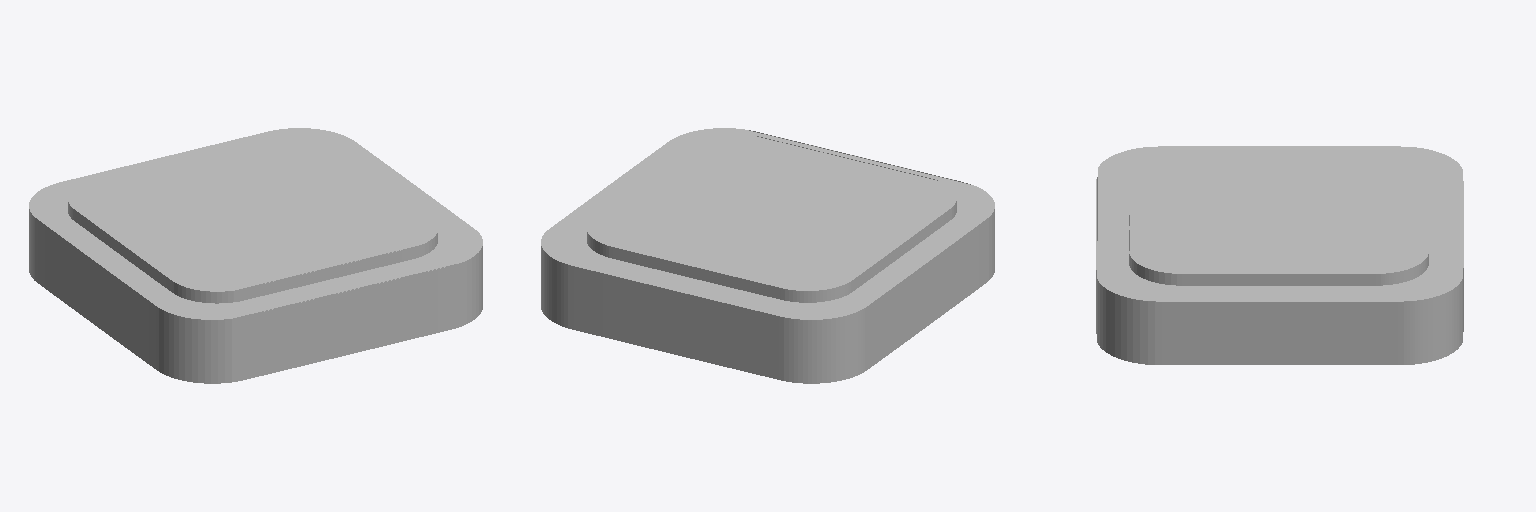
Rendered from wallFrame1.obj.
The picture shows the model from 3 angles: view 1: azimuth 30°, elevation 25°; view 2: azimuth 150°, elevation 25°; view 3: azimuth 270°, elevation 25°; orthographic projection.
Parts seen in each view (by area): view 1: path119_path119.001, path119.001_path119.002; view 2: path119_path119.001, path119.001_path119.002; view 3: path119.001_path119.002, path119_path119.001.
Boxes of the visible parts, x1=… form: path119_path119.001: x1=29, y1=128, x2=482, y2=383; path119.001_path119.002: x1=68, y1=135, x2=437, y2=303; path119_path119.001: x1=541, y1=128, x2=994, y2=383; path119.001_path119.002: x1=587, y1=134, x2=956, y2=302; path119.001_path119.002: x1=1129, y1=147, x2=1428, y2=285; path119_path119.001: x1=1096, y1=146, x2=1463, y2=364.
Size of the model in its own units: 14.92 by 3.92 by 14.91.